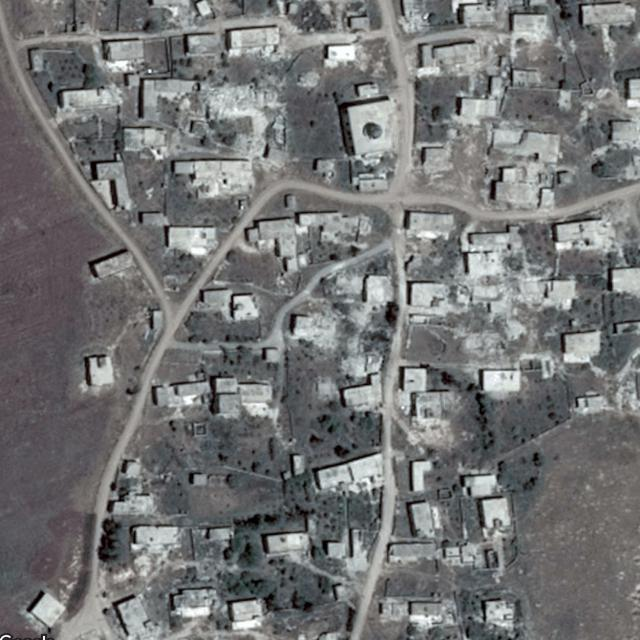damaged_building: (446, 246, 574, 354), (197, 80, 290, 168), (329, 270, 394, 326), (551, 218, 619, 252), (289, 308, 336, 348), (504, 11, 550, 44), (338, 352, 386, 375)
